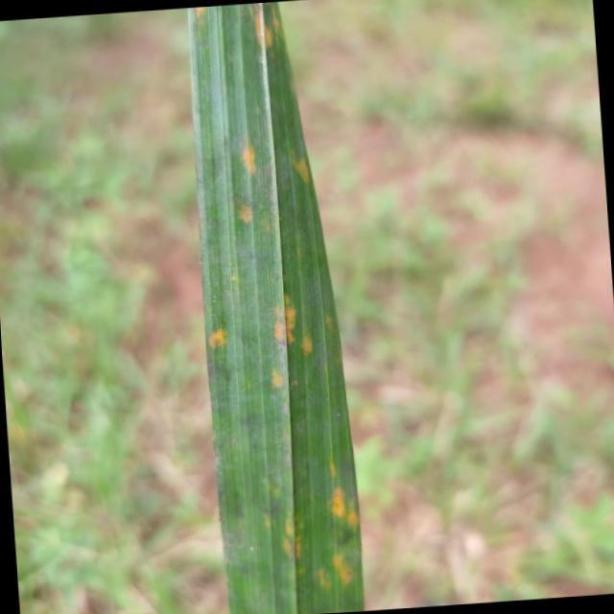Kalium: (187, 2, 366, 612)
